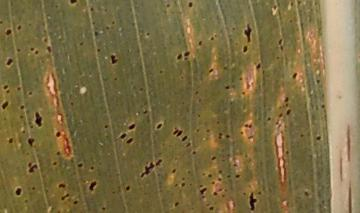tarspot: (141, 162, 155, 178), (248, 191, 257, 211), (243, 24, 252, 43), (34, 110, 42, 127), (88, 181, 97, 192), (109, 54, 118, 64), (28, 164, 38, 172), (155, 158, 163, 167), (56, 182, 66, 189), (15, 186, 22, 196), (27, 138, 35, 146), (1, 101, 9, 109), (46, 45, 53, 54), (7, 136, 14, 144), (6, 58, 13, 66), (128, 123, 136, 130), (183, 49, 190, 57), (200, 187, 207, 195), (218, 131, 224, 140), (277, 36, 283, 45), (292, 71, 298, 80), (2, 83, 9, 90), (5, 28, 12, 35), (187, 1, 194, 8), (303, 190, 310, 197), (126, 137, 134, 143), (156, 122, 162, 130), (177, 129, 183, 137), (176, 52, 182, 60), (255, 62, 261, 70), (62, 193, 68, 201), (197, 96, 203, 104), (243, 44, 248, 53), (19, 103, 25, 110), (120, 133, 127, 139), (165, 1, 171, 8), (286, 108, 292, 115), (315, 134, 321, 141), (320, 102, 326, 109), (234, 173, 241, 179), (207, 172, 213, 179), (212, 190, 218, 197), (125, 185, 131, 192), (173, 127, 178, 135), (55, 150, 61, 156), (55, 131, 61, 137), (77, 162, 83, 168), (93, 31, 99, 37), (185, 141, 191, 147), (225, 133, 231, 139), (215, 119, 221, 125), (208, 67, 214, 73), (266, 116, 272, 122), (274, 120, 280, 126), (284, 97, 290, 103), (320, 199, 326, 205), (174, 201, 180, 207), (78, 41, 85, 46), (182, 135, 187, 142), (232, 163, 239, 168), (279, 44, 284, 51), (257, 189, 262, 196), (201, 171, 206, 178), (209, 206, 216, 211), (181, 181, 186, 188), (27, 161, 32, 167), (103, 124, 109, 129), (16, 48, 22, 53), (17, 25, 22, 31), (34, 49, 39, 55), (54, 3, 59, 9), (105, 25, 110, 31), (143, 109, 148, 115), (172, 168, 177, 174), (146, 31, 151, 37), (195, 89, 200, 95), (223, 65, 228, 71), (231, 25, 236, 31), (244, 123, 249, 129), (238, 76, 243, 82), (279, 112, 284, 118), (316, 78, 321, 84), (289, 1, 294, 7), (226, 173, 231, 179), (211, 180, 216, 186), (220, 158, 226, 163), (226, 152, 231, 158), (221, 193, 226, 199), (73, 200, 79, 205), (229, 100, 234, 106), (212, 155, 216, 162), (248, 122, 252, 129), (273, 4, 277, 11), (69, 1, 78, 4), (52, 161, 57, 166), (89, 166, 94, 171), (28, 91, 33, 96), (16, 86, 21, 91), (6, 89, 11, 94), (30, 47, 35, 52), (104, 8, 109, 13), (111, 20, 116, 25), (192, 150, 197, 155), (159, 69, 164, 74), (180, 75, 185, 80), (206, 128, 211, 133), (198, 41, 203, 46), (239, 131, 244, 136), (225, 84, 230, 89), (285, 150, 290, 155), (288, 18, 293, 23), (297, 1, 302, 6), (242, 191, 247, 196), (217, 177, 222, 182), (199, 183, 204, 188), (101, 206, 106, 211), (111, 190, 116, 195), (31, 186, 36, 191), (29, 125, 35, 129), (19, 115, 25, 119), (70, 101, 74, 107), (44, 37, 48, 43), (28, 21, 32, 27), (90, 7, 94, 13), (196, 128, 200, 134), (139, 87, 145, 91), (247, 135, 253, 139), (242, 90, 246, 96), (275, 56, 281, 60), (219, 187, 223, 193), (189, 181, 193, 187), (24, 198, 28, 204), (22, 129, 26, 134), (97, 48, 101, 53), (92, 21, 96, 26), (113, 77, 118, 81), (219, 169, 223, 174), (210, 36, 214, 41), (285, 103, 289, 108), (300, 134, 305, 138), (201, 195, 206, 199), (181, 177, 186, 181), (174, 182, 178, 187), (181, 101, 185, 105), (188, 170, 192, 174), (185, 57, 189, 61), (3, 117, 7, 121), (1, 19, 4, 24), (198, 113, 201, 118), (57, 210, 60, 213)
